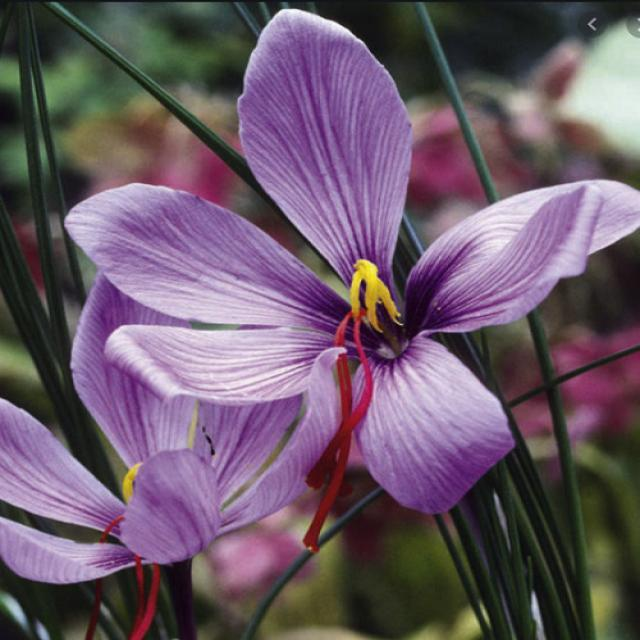Flower: (155, 120, 610, 482)
stigma: (304, 254, 376, 565), (121, 539, 169, 640)
